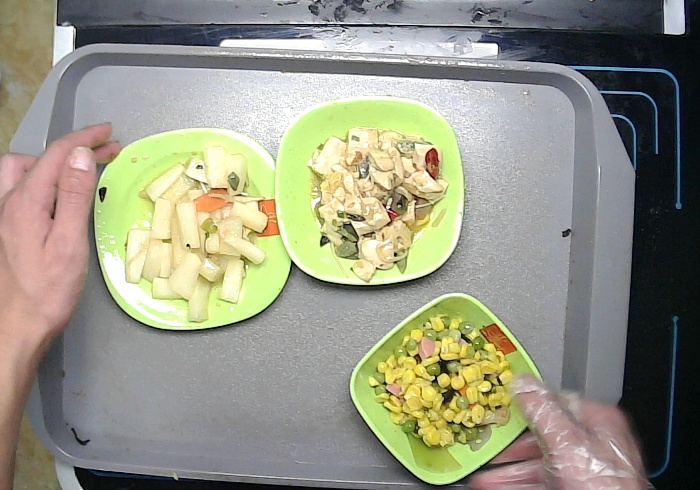SHKJ-Lv_Se_Cai_Die: (272, 94, 465, 287)
SHKJ-Lv_Se_Si_Fang_Cai_Die: (94, 126, 293, 330)
SHKJ-Lv_Se_Xiao_Fang_Die: (349, 292, 549, 486)
